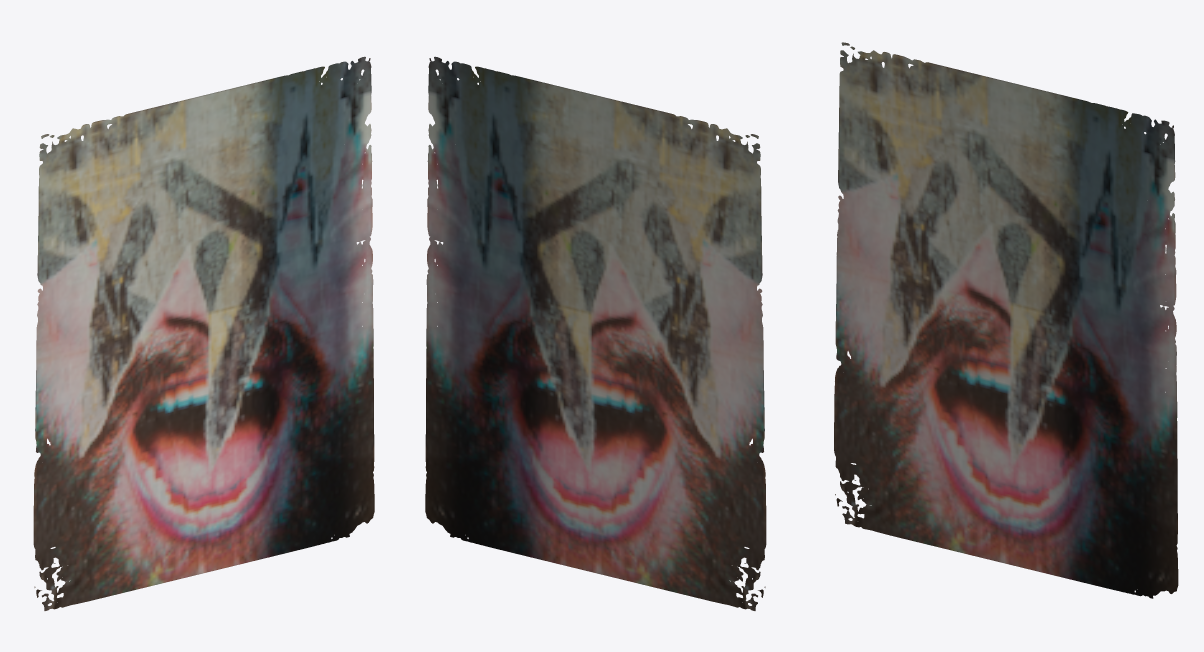
Rendered from Sticker_31.fbx.
3 renders of one model, left to right at view 1: azimuth 30°, elevation 25°; view 2: azimuth 150°, elevation 25°; view 3: azimuth 330°, elevation 25°, orthographic.
Visible parts, largest first — view 1: Sticker_31; view 2: Sticker_31; view 3: Sticker_31.
Boxes of the visible parts, x1,y1,x2,y2 form: Sticker_31: [33, 56, 374, 610]; Sticker_31: [425, 56, 766, 610]; Sticker_31: [834, 42, 1178, 598].
Bounding box in the file's own units: 0.2859 × 0.4014 × 1.82e-08.
